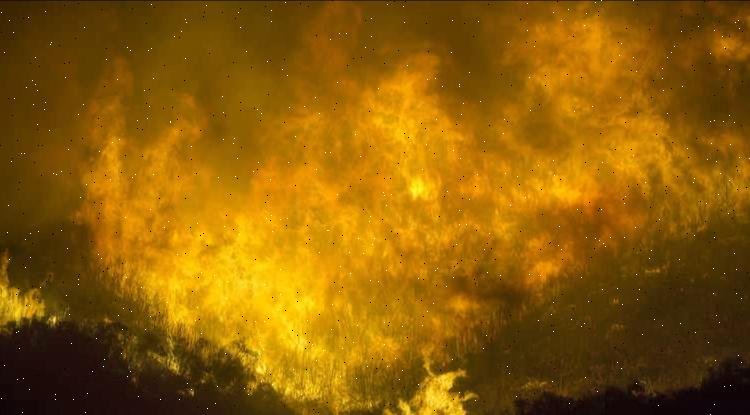fire: (15, 124, 750, 415)
